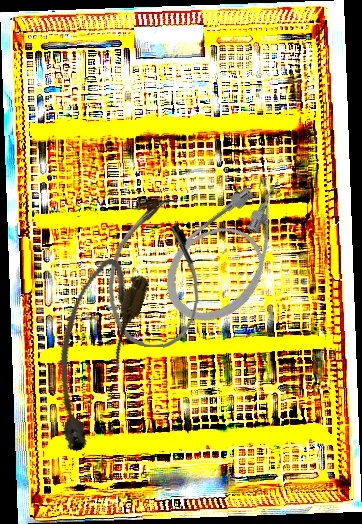Cannula: (146, 160, 321, 342), (29, 252, 154, 458), (105, 196, 205, 350)
